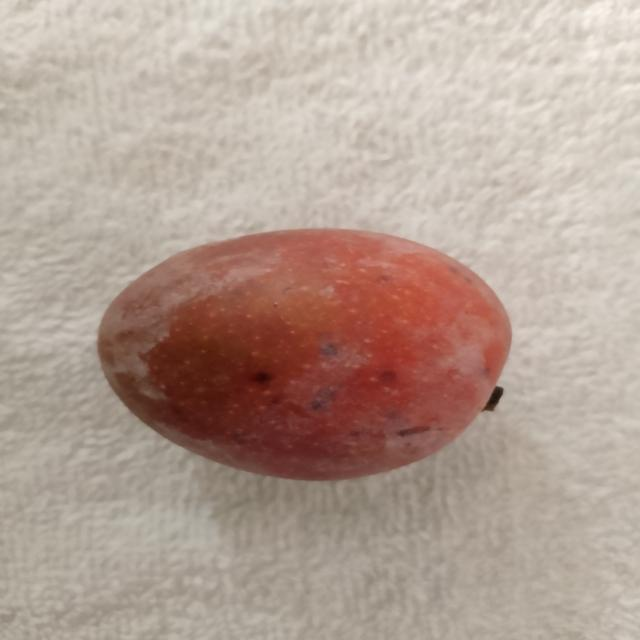mango: (94, 220, 516, 483)
